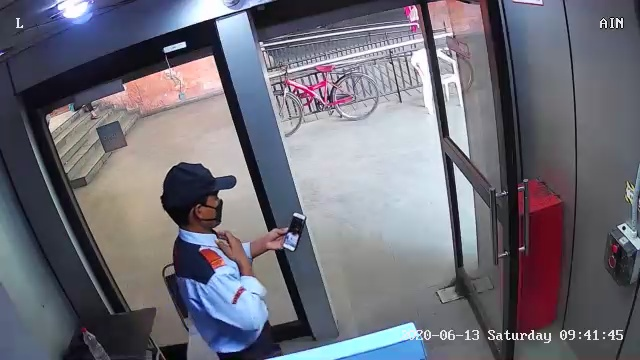open: (208, 7, 531, 357)
